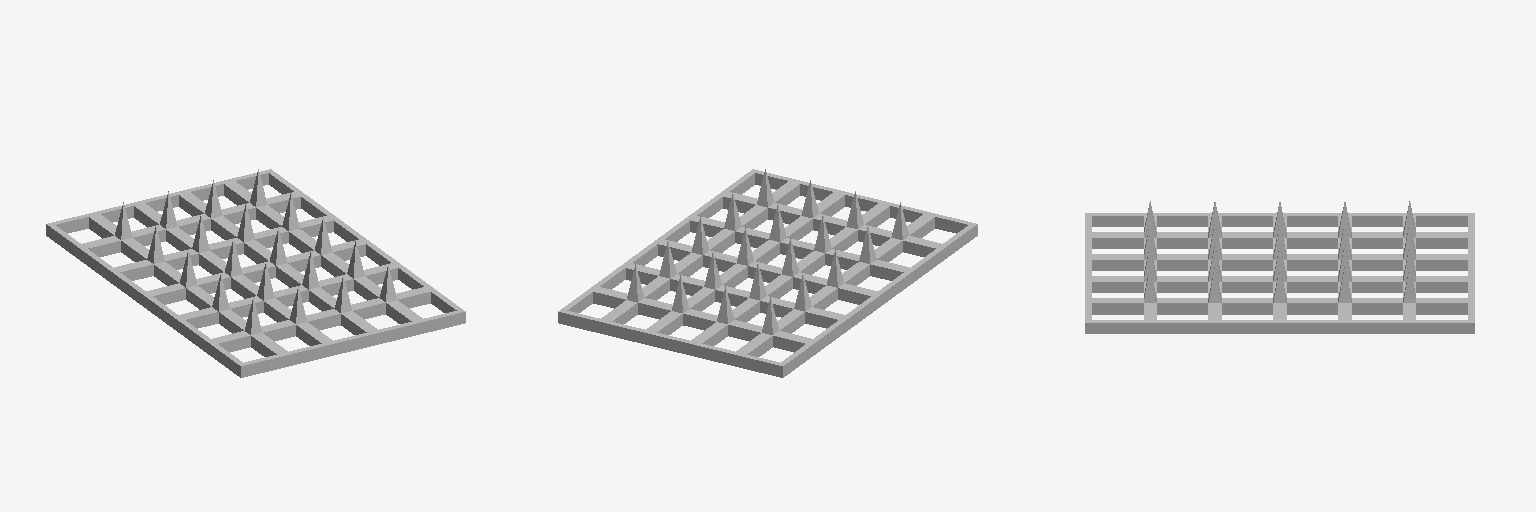
The model's file is Pinchos grid.obj.
3 views of the same model, side by side, from view 1: azimuth 30°, elevation 25°; view 2: azimuth 150°, elevation 25°; view 3: azimuth 270°, elevation 25° (orthographic).
Visible parts, largest first — view 1: Box001; view 2: Box001; view 3: Box001.
Part boxes in pixels (bbox=[...]): Box001: bbox=[46, 169, 465, 377]; Box001: bbox=[558, 169, 977, 377]; Box001: bbox=[1085, 201, 1474, 333].
Bounding box in the file's own units: 39.37 × 7.87 × 59.06.